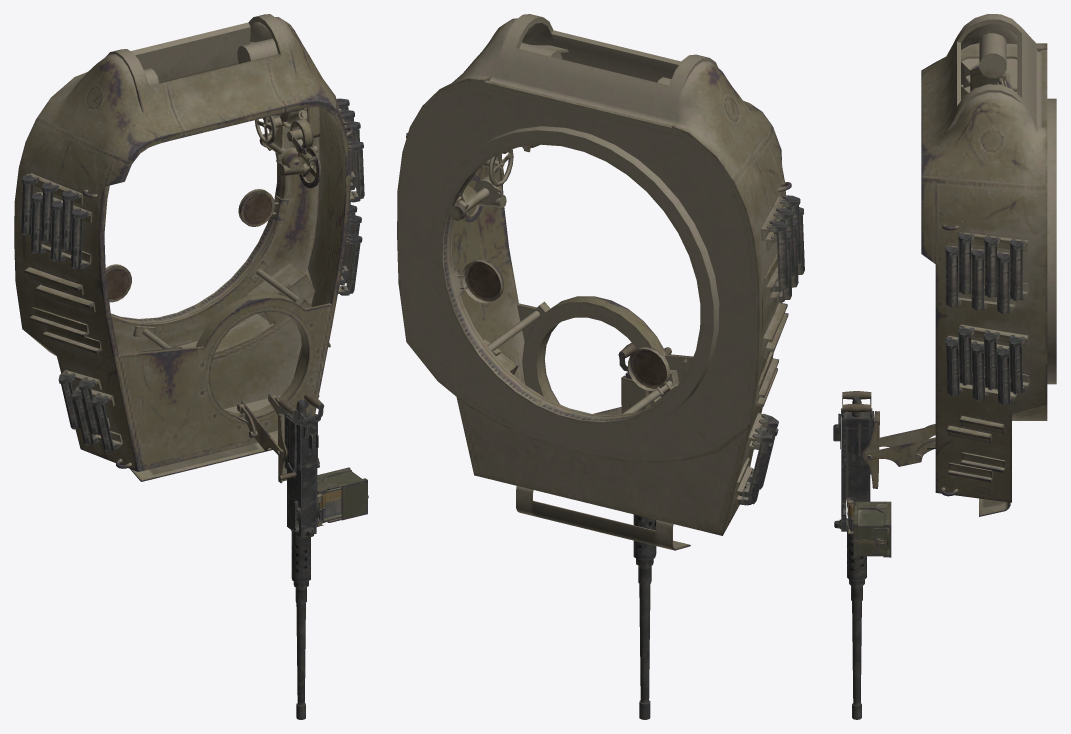
Rendered from Turret_01.glb.
3 renders of one model, left to right at view 1: azimuth 30°, elevation 25°; view 2: azimuth 150°, elevation 25°; view 3: azimuth 270°, elevation 25°, orthographic. The views are drawn at different scales.
Visible parts, largest first — view 1: set_0_group_0; view 2: set_0_group_0; view 3: set_0_group_0.
Boxes of the visible parts, x1,y1,x2,y2 form: set_0_group_0: (14, 14, 368, 719); set_0_group_0: (397, 14, 804, 719); set_0_group_0: (833, 14, 1056, 719).
Size of the model in its own units: 1.8 by 3.34 by 1.04.
1 material, 1 textured.
